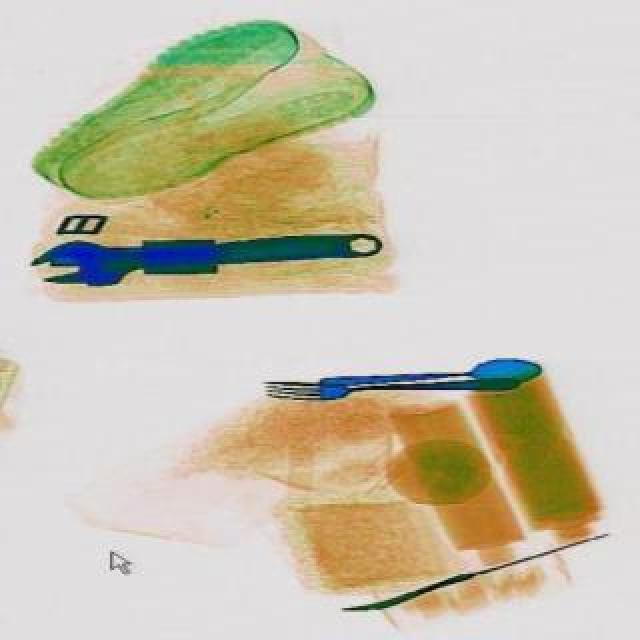scissors: (22, 220, 380, 292)
